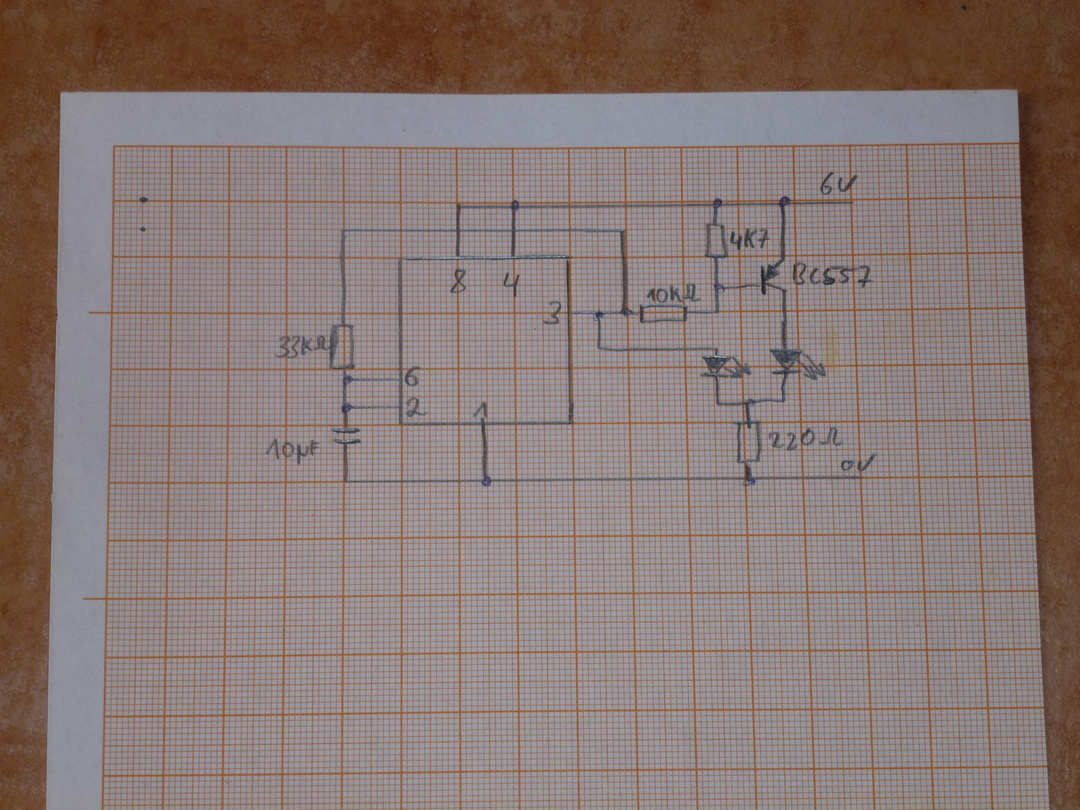capacitor.unpolarized: (330, 424, 364, 446)
crossover: (451, 224, 467, 236), (507, 224, 521, 236)
diode.light_emitting: (767, 345, 829, 383), (700, 352, 755, 381)
integrated_cricuit.ne555: (395, 252, 578, 428)
junction: (738, 470, 763, 488), (477, 473, 496, 489), (777, 194, 792, 209), (339, 401, 355, 415), (708, 196, 725, 209), (340, 373, 355, 387), (711, 282, 727, 295), (592, 306, 606, 320), (508, 199, 522, 213), (452, 200, 467, 213), (337, 224, 351, 237), (618, 305, 633, 317), (613, 224, 627, 236), (742, 397, 756, 409), (340, 475, 351, 487), (593, 342, 605, 353), (713, 398, 724, 409), (713, 306, 724, 316), (779, 395, 788, 405), (710, 346, 722, 352)
resistor: (734, 417, 765, 465), (328, 322, 357, 371), (638, 303, 689, 325), (703, 219, 729, 261)
terminal: (847, 473, 864, 484), (847, 197, 858, 207)
text: (791, 261, 874, 289), (768, 425, 843, 451), (264, 437, 320, 465), (276, 333, 329, 359), (646, 282, 701, 304), (819, 170, 859, 196), (729, 226, 771, 250), (839, 452, 877, 473), (446, 267, 468, 296), (405, 395, 429, 419), (502, 271, 522, 298), (543, 300, 562, 326), (404, 364, 421, 388), (472, 401, 489, 419)
transistor: (759, 257, 788, 296)
